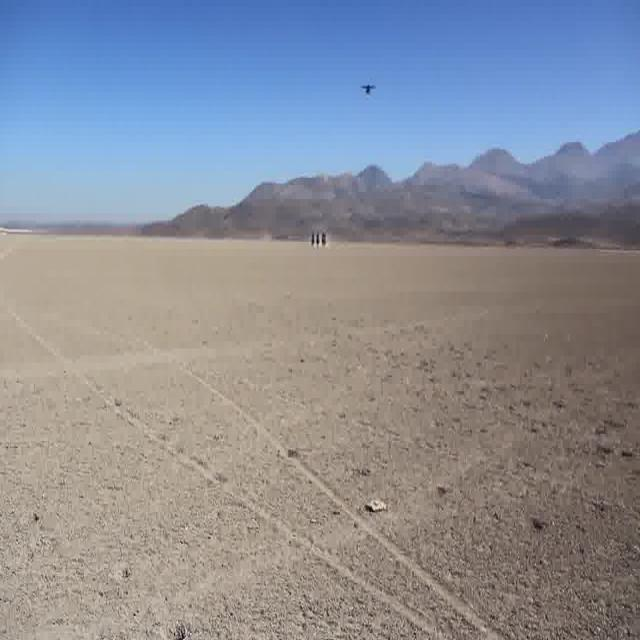drone: (359, 79, 377, 98)
